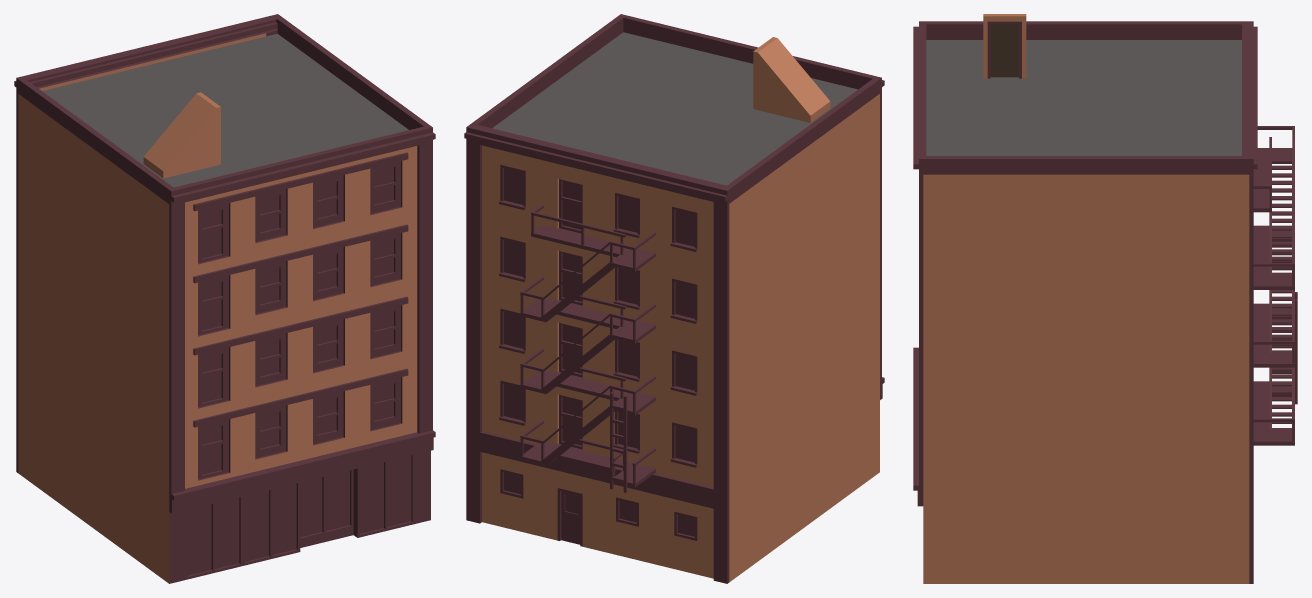
File: Building 4 étages.fbx
3 renders of one model, left to right at view 1: azimuth 30°, elevation 25°; view 2: azimuth 150°, elevation 25°; view 3: azimuth 270°, elevation 25°, orthographic. The views are drawn at different scales.
Parts seen in each view (by area): view 1: building-block-4floor-back; view 2: building-block-4floor-back; view 3: building-block-4floor-back.
Boxes of the visible parts, left/top/right/bottom form: building-block-4floor-back: left=14, top=14, right=435, bottom=583; building-block-4floor-back: left=464, top=14, right=884, bottom=583; building-block-4floor-back: left=913, top=14, right=1297, bottom=583.
Bounding box in the file's own units: 1140 × 1820 × 1345.
